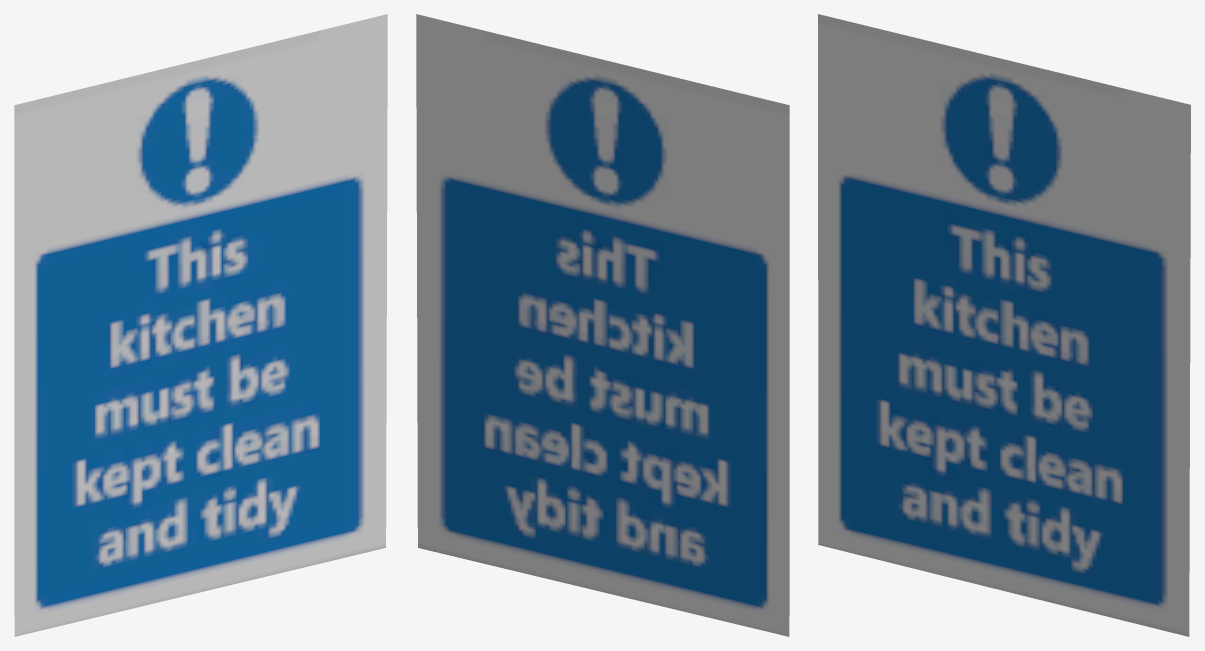
Rendered from SM_Sign_Kitchen_Clean_01.glb.
3 views of the same model, side by side, from view 1: azimuth 30°, elevation 25°; view 2: azimuth 150°, elevation 25°; view 3: azimuth 330°, elevation 25° (orthographic).
Parts seen in each view (by area): view 1: SM_Sign_Kitchen_Clean_01; view 2: SM_Sign_Kitchen_Clean_01; view 3: SM_Sign_Kitchen_Clean_01.
Part boxes in pixels (x1,y1,x2,y2): SM_Sign_Kitchen_Clean_01: (14,14,387,636); SM_Sign_Kitchen_Clean_01: (416,14,789,636); SM_Sign_Kitchen_Clean_01: (818,14,1190,636).
Size of the model in its own units: 0.2215 by 0.3022 by 4.89e-08.
1 material, 1 textured.
